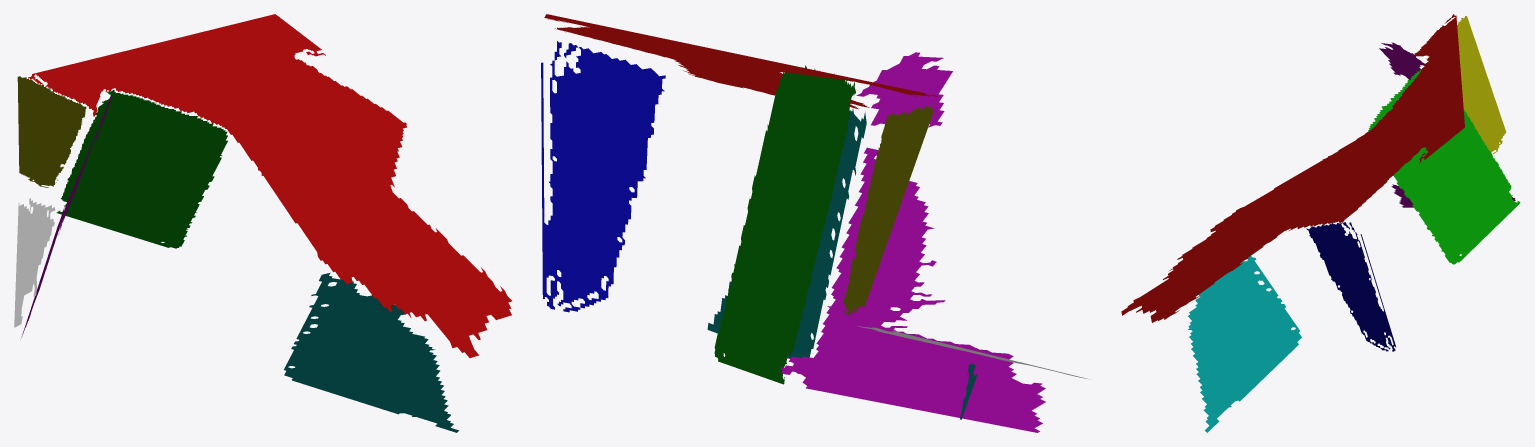
The model's file is 359_seg_GTplane.gltf.
The picture shows the model from 3 angles, left to right: view 1: azimuth 30°, elevation 25°; view 2: azimuth 150°, elevation 25°; view 3: azimuth 270°, elevation 25°; orthographic projection. The views are drawn at different scales.
Bounding box in the file's own units: 2.6 × 2.14 × 2.64.
